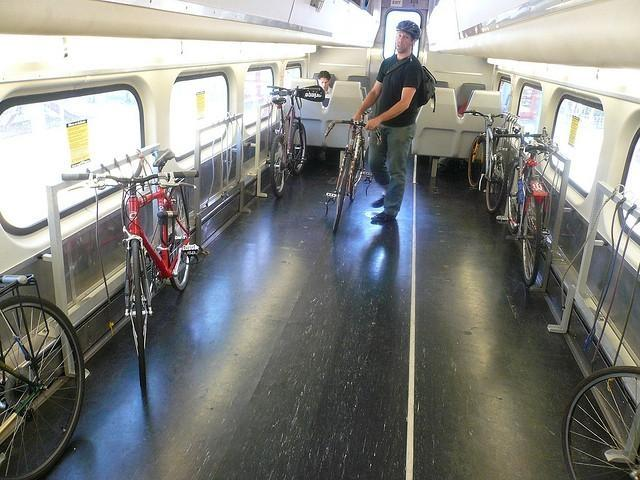bicycle: (62, 149, 210, 410), (1, 275, 86, 475), (495, 128, 550, 288), (560, 366, 640, 474), (268, 86, 322, 198), (459, 108, 516, 212), (325, 121, 372, 233)
